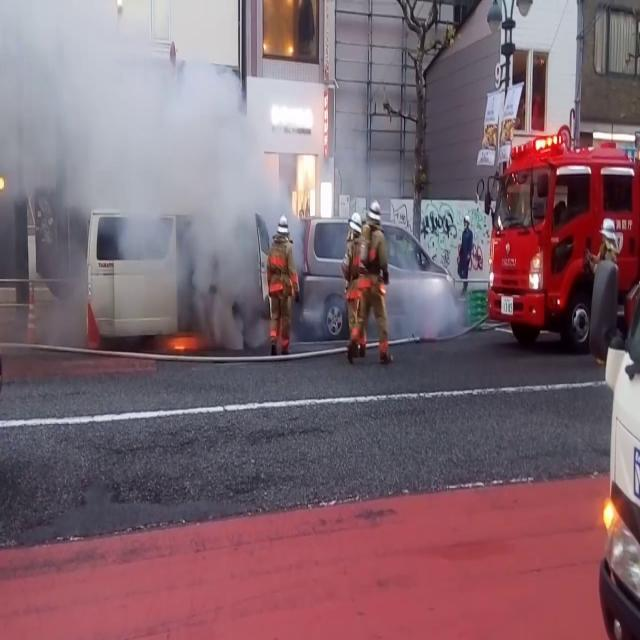Fire: (164, 324, 206, 359)
Smoke: (0, 0, 274, 344)
